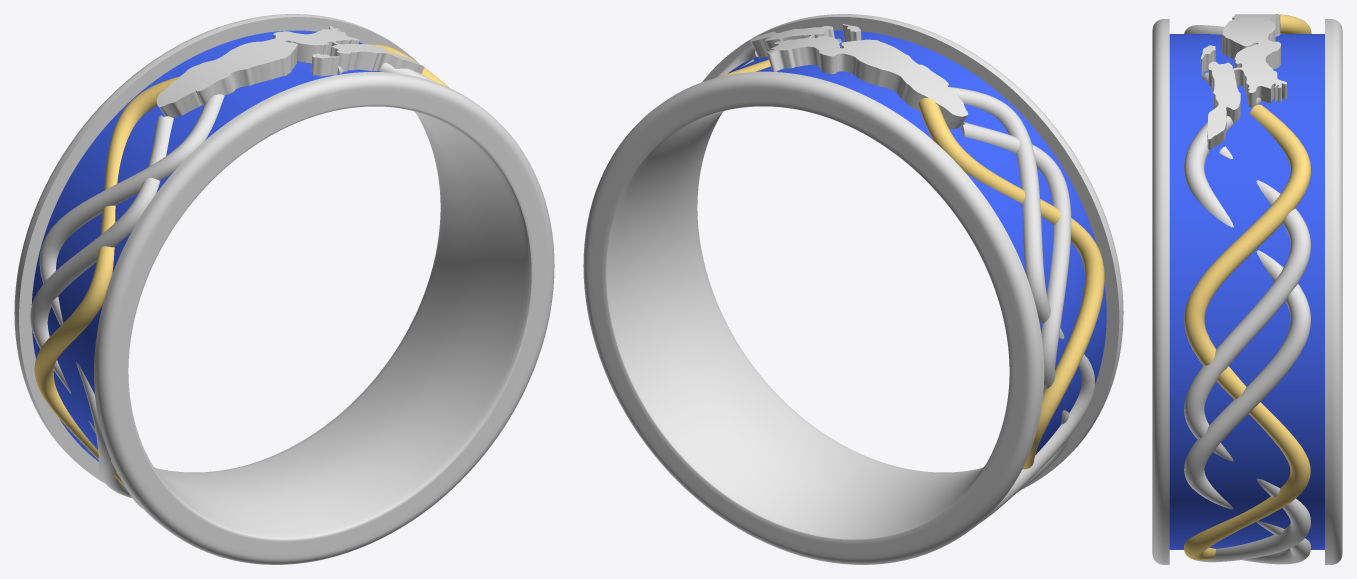
The model's file is SaraNewPTwb_blender.glb.
3 renders of one model, left to right at view 1: azimuth 30°, elevation 25°; view 2: azimuth 150°, elevation 25°; view 3: azimuth 270°, elevation 25°, orthographic. The views are drawn at different scales.
Parts seen in each view (by area): view 1: Sara PT for 3d model, Sara black for 3d model, Sara YG vines for 3d model; view 2: Sara PT for 3d model, Sara black for 3d model, Sara YG vines for 3d model; view 3: Sara black for 3d model, Sara PT for 3d model, Sara YG vines for 3d model.
Boxes of the visible parts, <box> form: Sara PT for 3d model: <box>14,14,554,564</box>; Sara black for 3d model: <box>31,30,380,461</box>; Sara YG vines for 3d model: <box>34,44,449,486</box>; Sara PT for 3d model: <box>583,14,1123,564</box>; Sara black for 3d model: <box>728,30,1106,454</box>; Sara YG vines for 3d model: <box>714,59,1104,469</box>; Sara black for 3d model: <box>1169,34,1324,549</box>; Sara PT for 3d model: <box>1152,14,1342,564</box>; Sara YG vines for 3d model: <box>1184,14,1311,560</box>.
Bounding box in the file's own units: 24.73 × 24.66 × 8.5.
